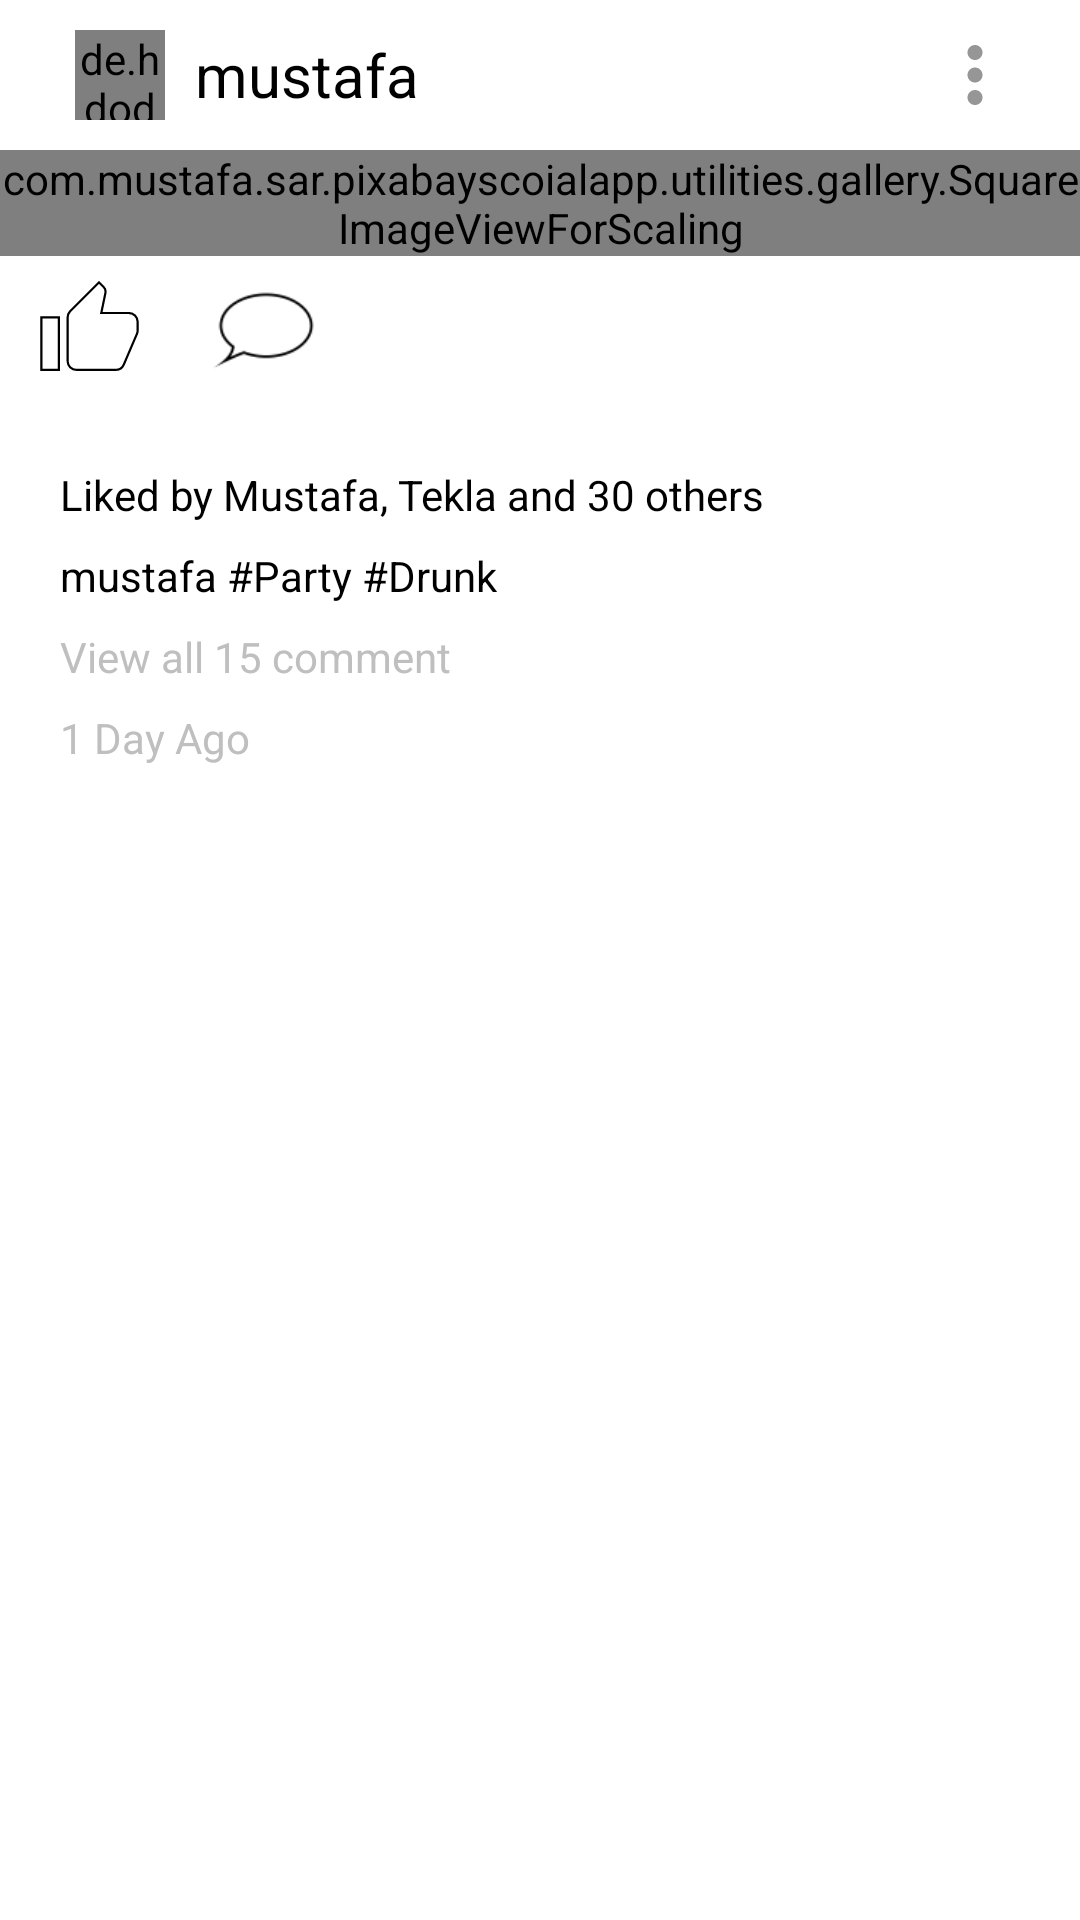

Where to tap for icons on this 1080 × 1920 app screen, as (x=x, y=y):
comment: (x=264, y=329)
menu: (x=975, y=75)
